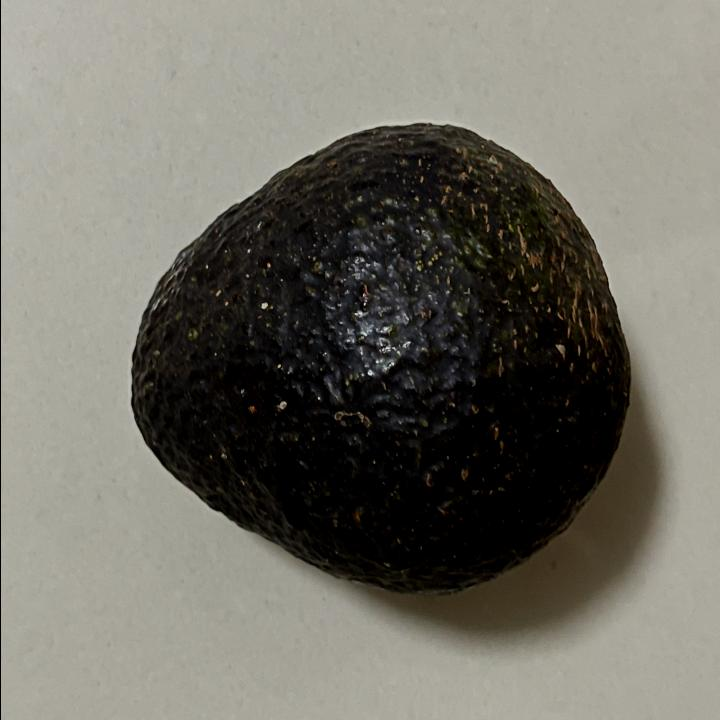Level1: (120, 117, 636, 606)
